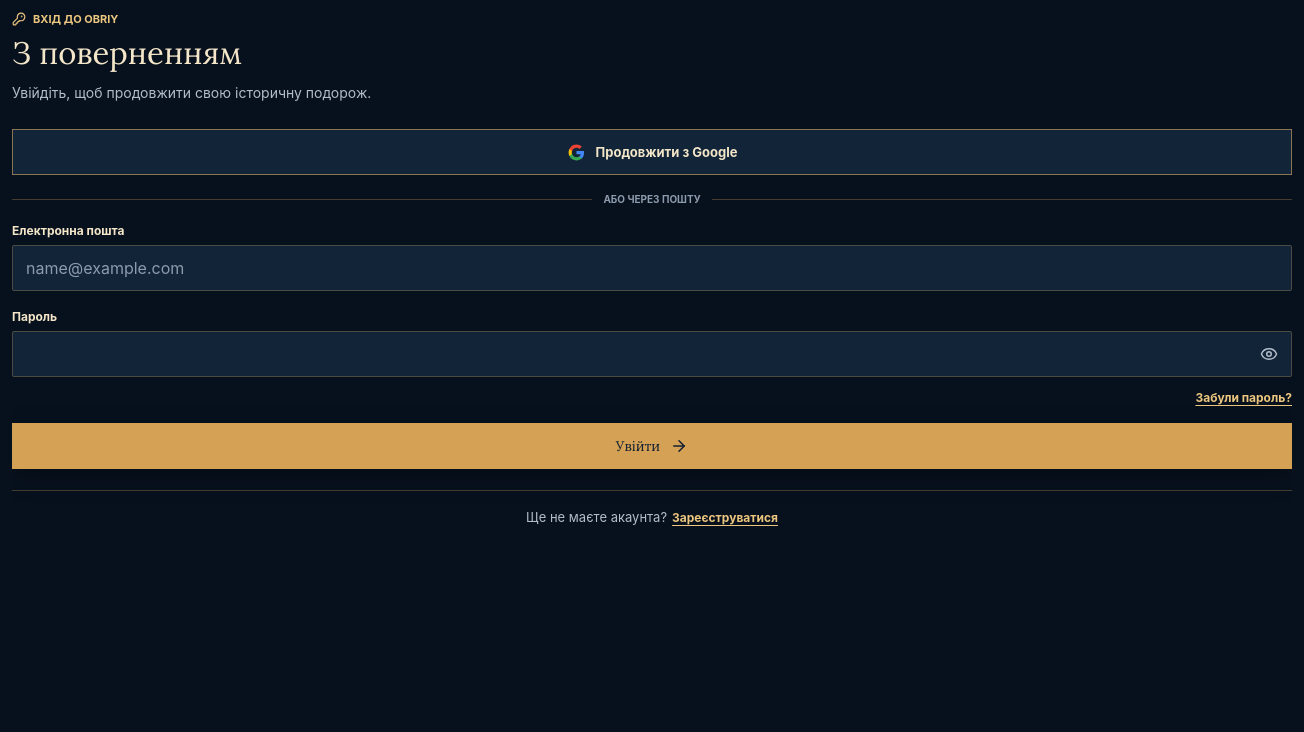
Test case: LoginPage › shows the localized API error for invalid credentials
In the field labelled "Електронна пошта": (652, 268) [12,245,1292,291], type "student@example.com"
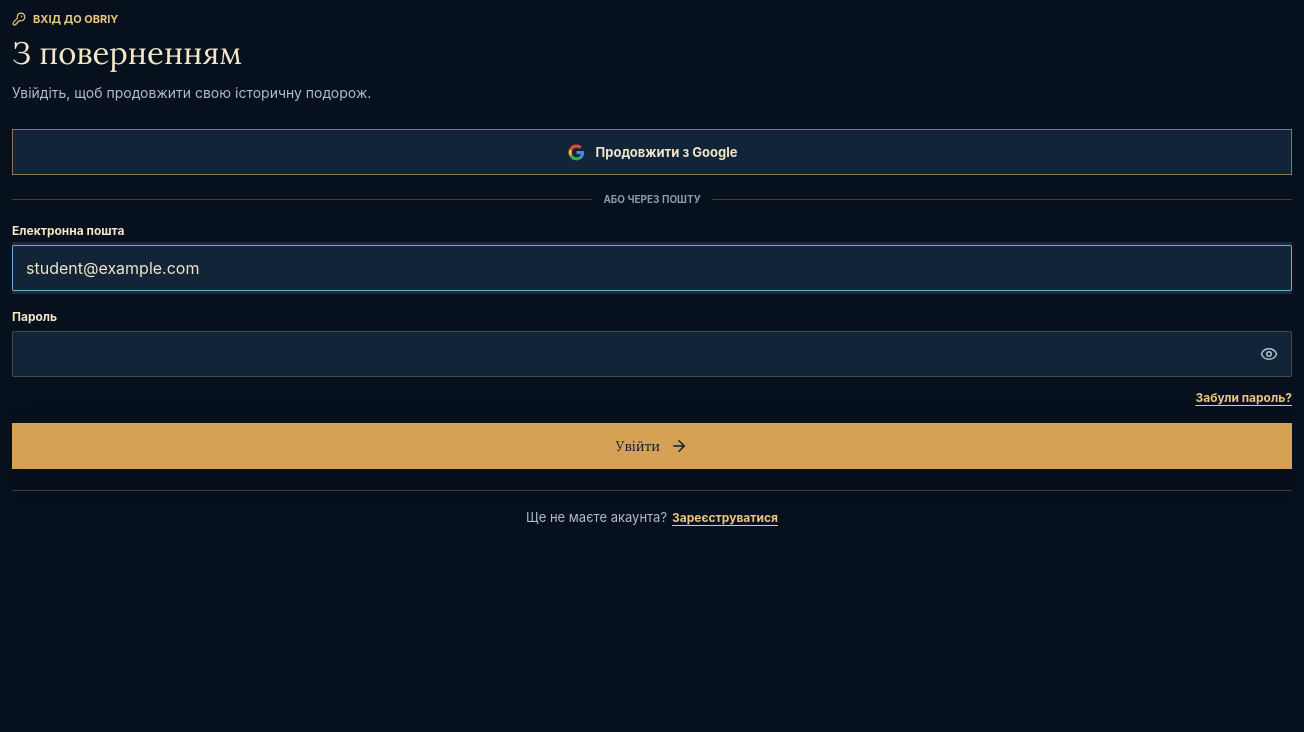
In the password field labelled "Пароль": (652, 354) [12,331,1292,377], type "wrong-password"
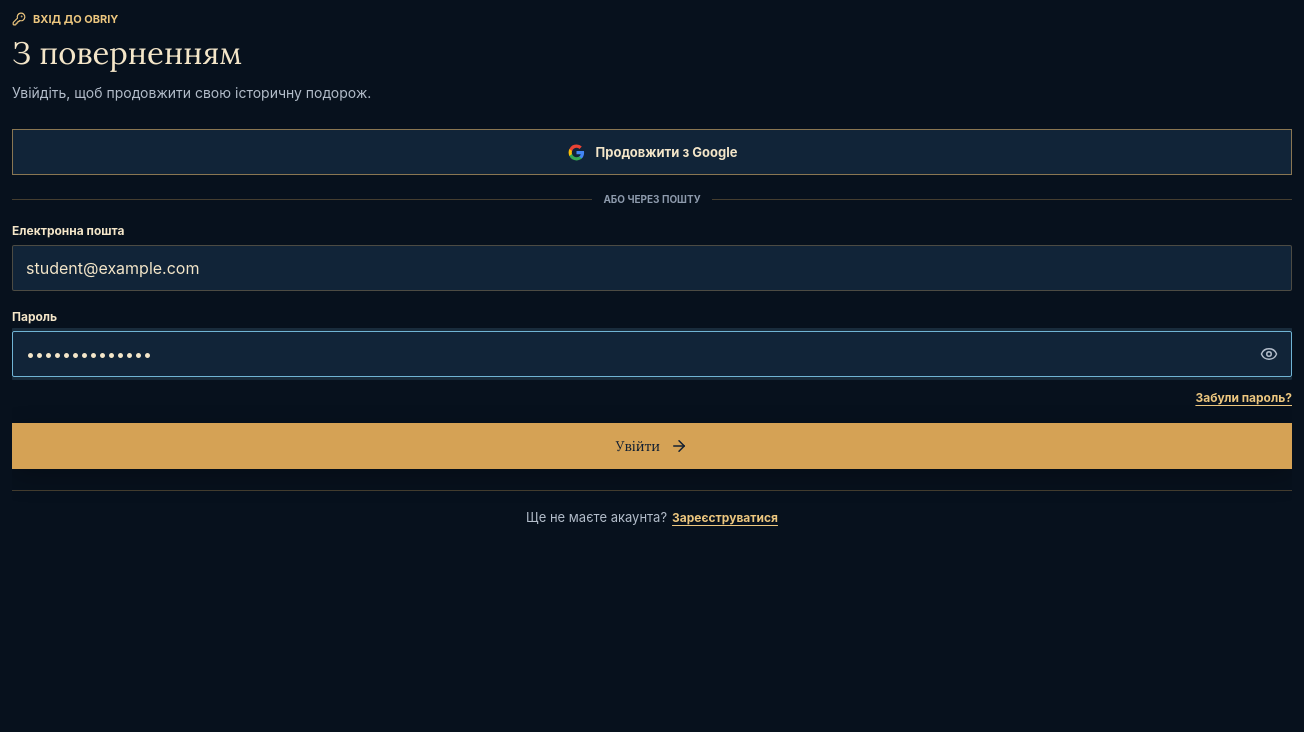
Click the button "Увійти": (652, 446) [12,423,1292,469]
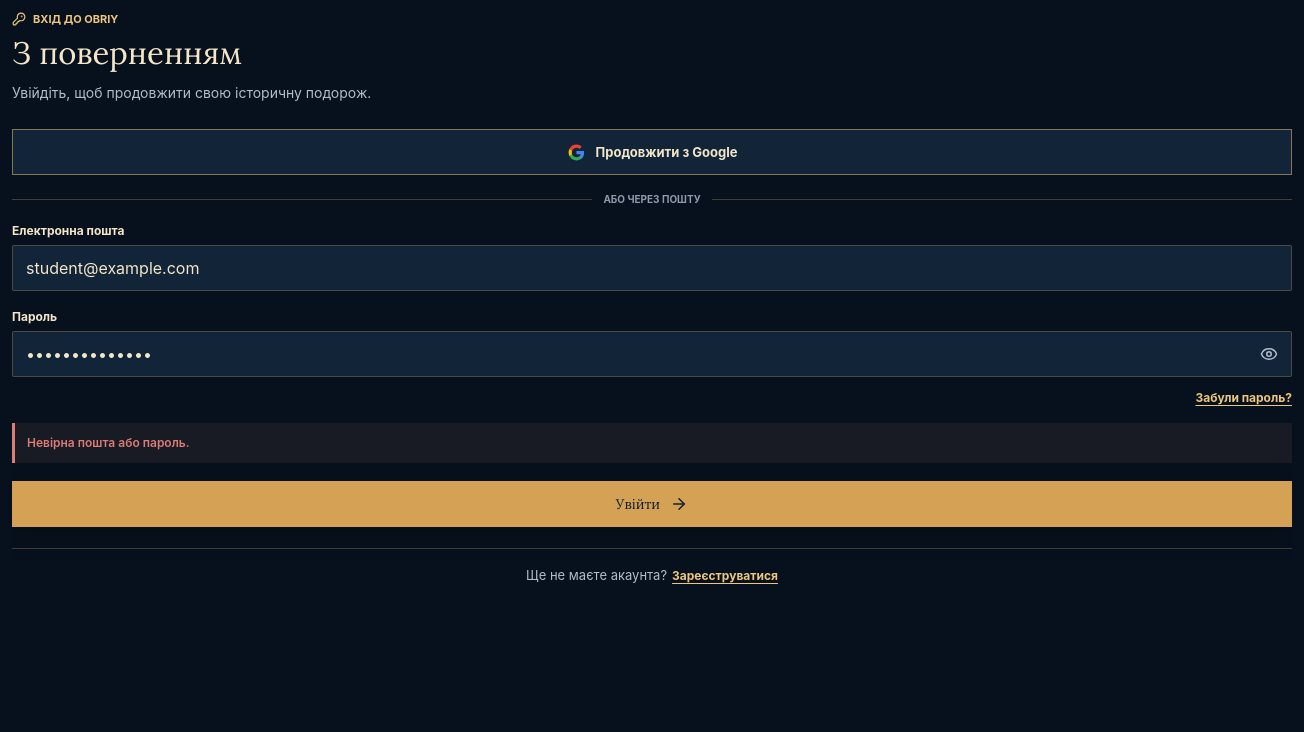
expect the message reads "Невірна пошта або пароль.": met, box [27,435,190,450]
